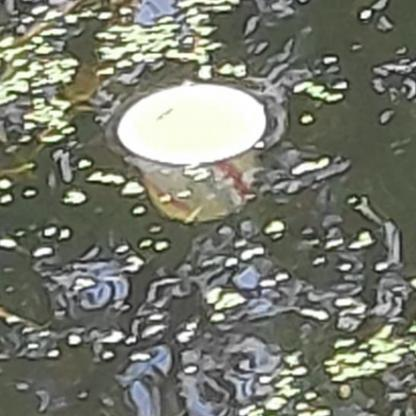Plastic: (116, 83, 268, 226)
